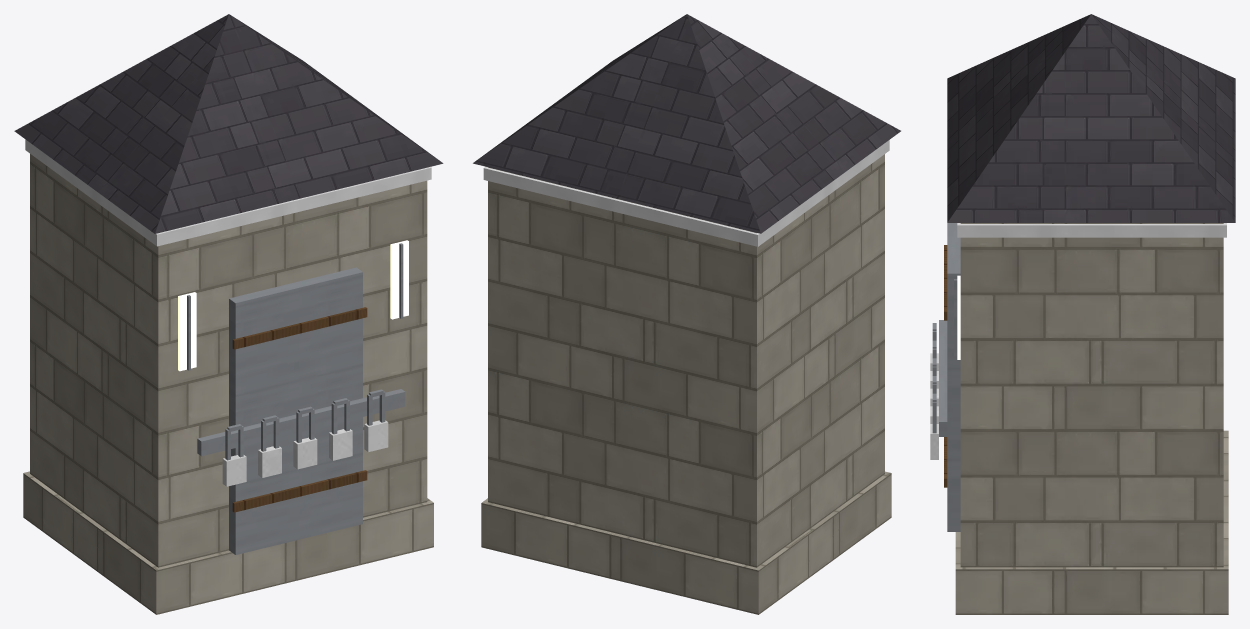
The model's file is protocol.safe.glb.
3 views of the same model, side by side, from view 1: azimuth 30°, elevation 25°; view 2: azimuth 150°, elevation 25°; view 3: azimuth 270°, elevation 25° (orthographic). The views are drawn at different scales.
Parts seen in each view (by area): view 1: building.protocol.safe; view 2: building.protocol.safe; view 3: building.protocol.safe.
Part boxes in pixels (x1,y1,x2,y2): building.protocol.safe: (14, 14, 443, 614); building.protocol.safe: (473, 14, 900, 614); building.protocol.safe: (930, 14, 1235, 614).
Bounding box in the file's own units: 2.04 × 3.5 × 1.82.
7 materials, 6 textured.
